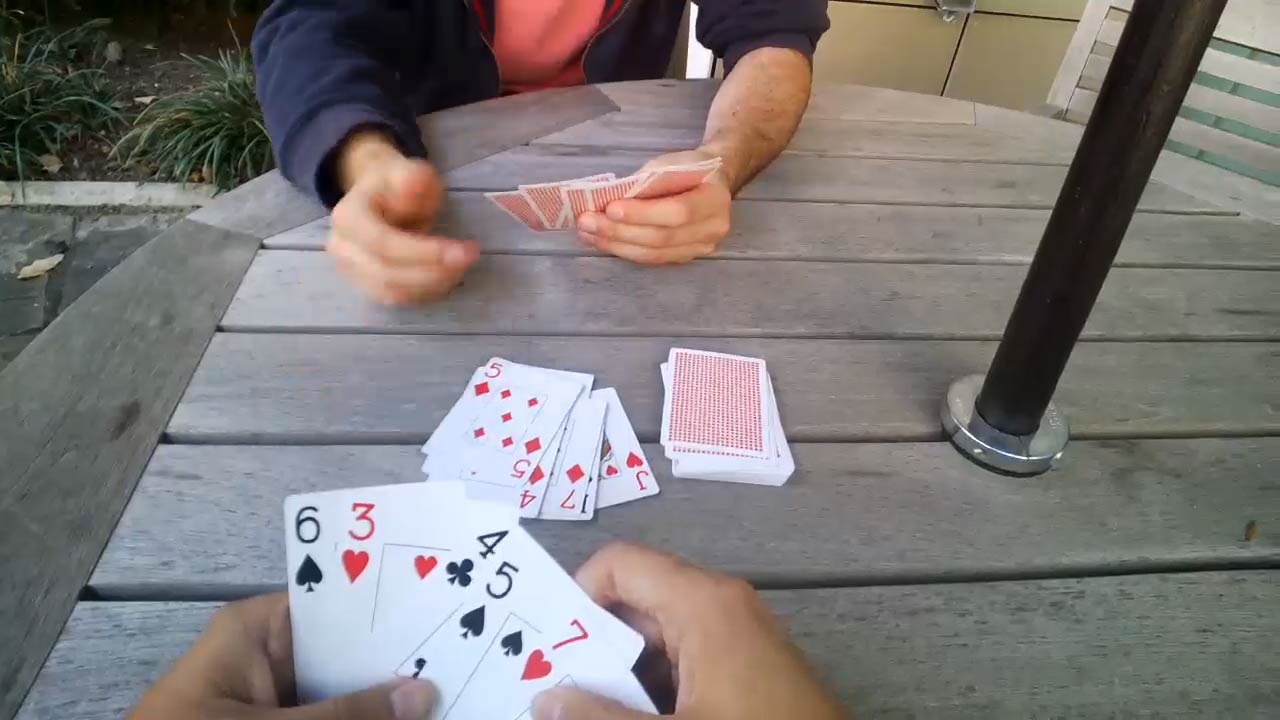hand: (529, 544, 844, 717), (125, 592, 431, 717), (328, 163, 475, 304), (578, 152, 737, 265)
